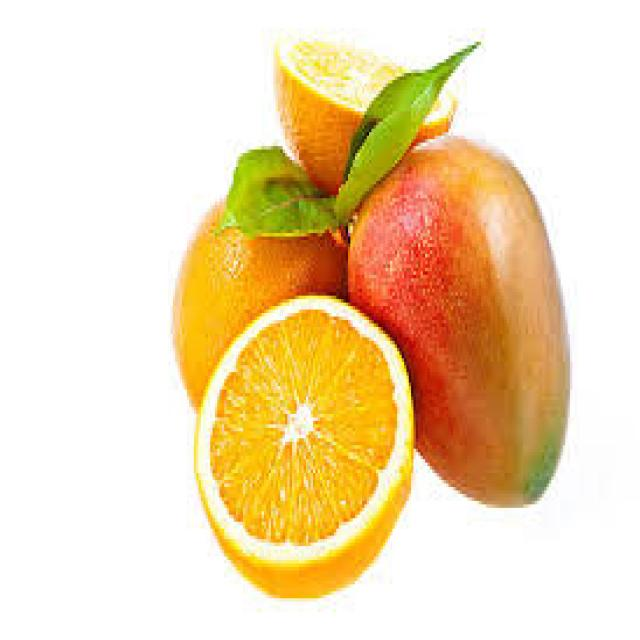Mango: (347, 140, 572, 506)
Orange: (190, 292, 416, 596), (172, 188, 347, 404), (270, 29, 456, 193)
